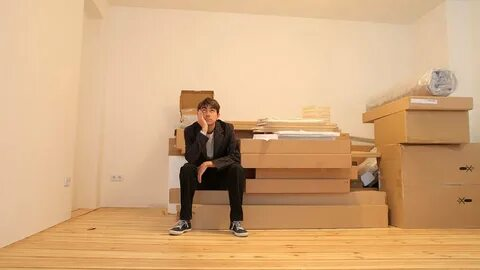awake: (167, 96, 250, 238)
